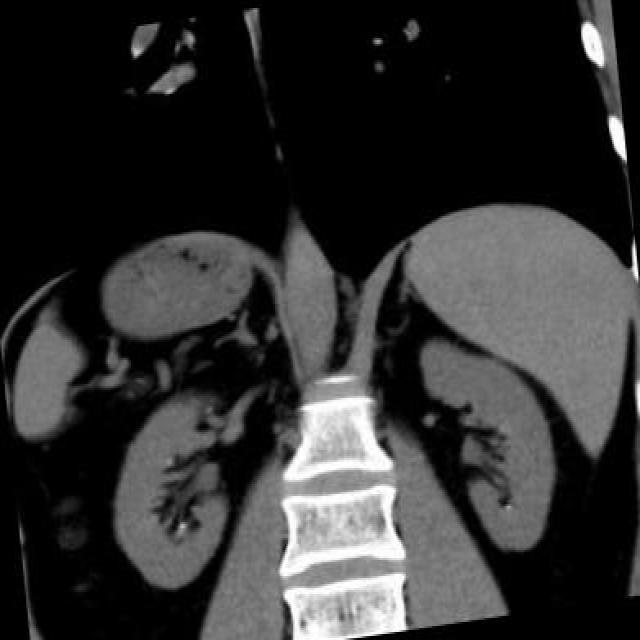Tas_Var: (500, 498, 515, 512), (162, 455, 174, 469), (175, 519, 188, 531)
